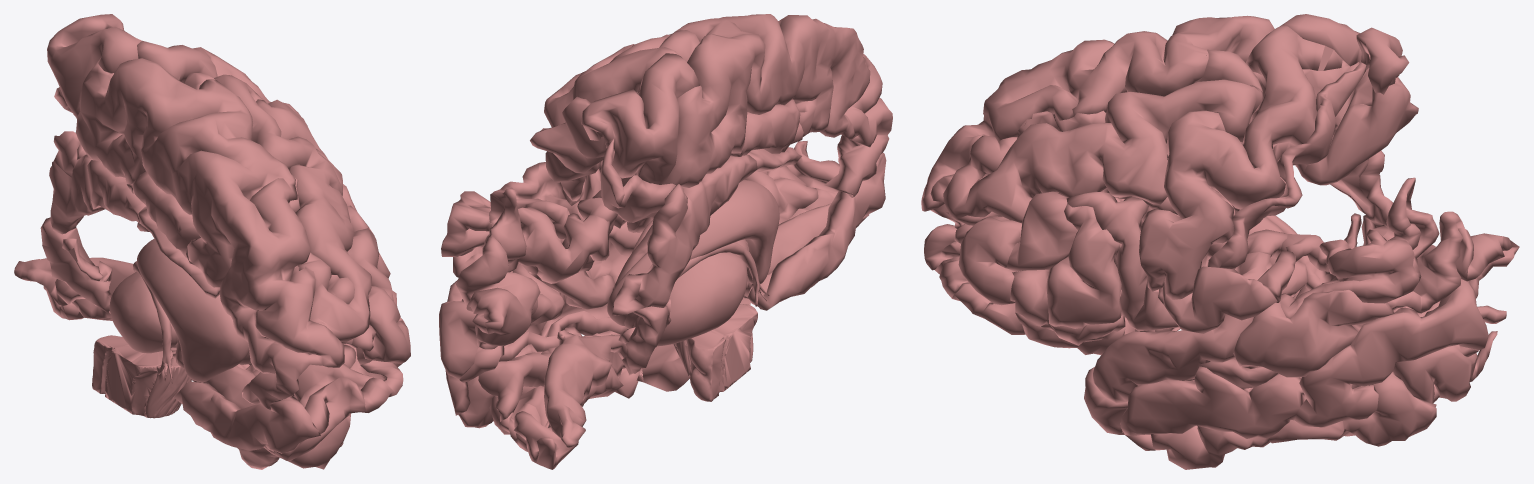
Rendered from CNS.L.001.fbx.
3 renders of one model, left to right at view 1: azimuth 30°, elevation 25°; view 2: azimuth 150°, elevation 25°; view 3: azimuth 270°, elevation 25°, orthographic. The views are drawn at different scales.
Parts seen in each view (by area): view 1: Triangular part of inferior frontal gyrus.l.001; view 2: Triangular part of inferior frontal gyrus.l.001; view 3: Triangular part of inferior frontal gyrus.l.001.
Boxes of the visible parts, left/top/right/bottom form: Triangular part of inferior frontal gyrus.l.001: left=14, top=14, right=410, bottom=469; Triangular part of inferior frontal gyrus.l.001: left=439, top=14, right=892, bottom=469; Triangular part of inferior frontal gyrus.l.001: left=921, top=14, right=1519, bottom=469.
Size of the model in its own units: 6.89 by 16.33 by 11.71.
